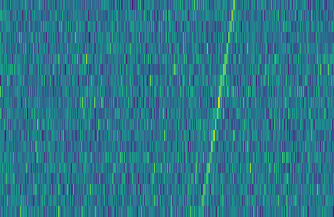signal: (197, 0, 241, 217)
